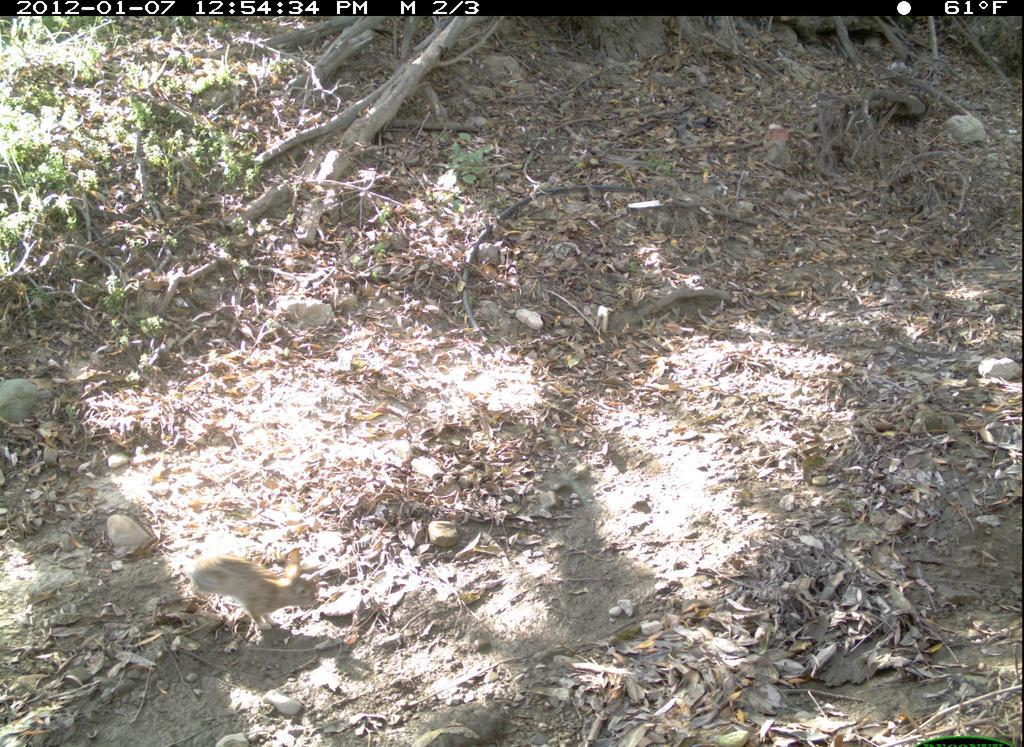rabbit: (182, 543, 329, 646)
